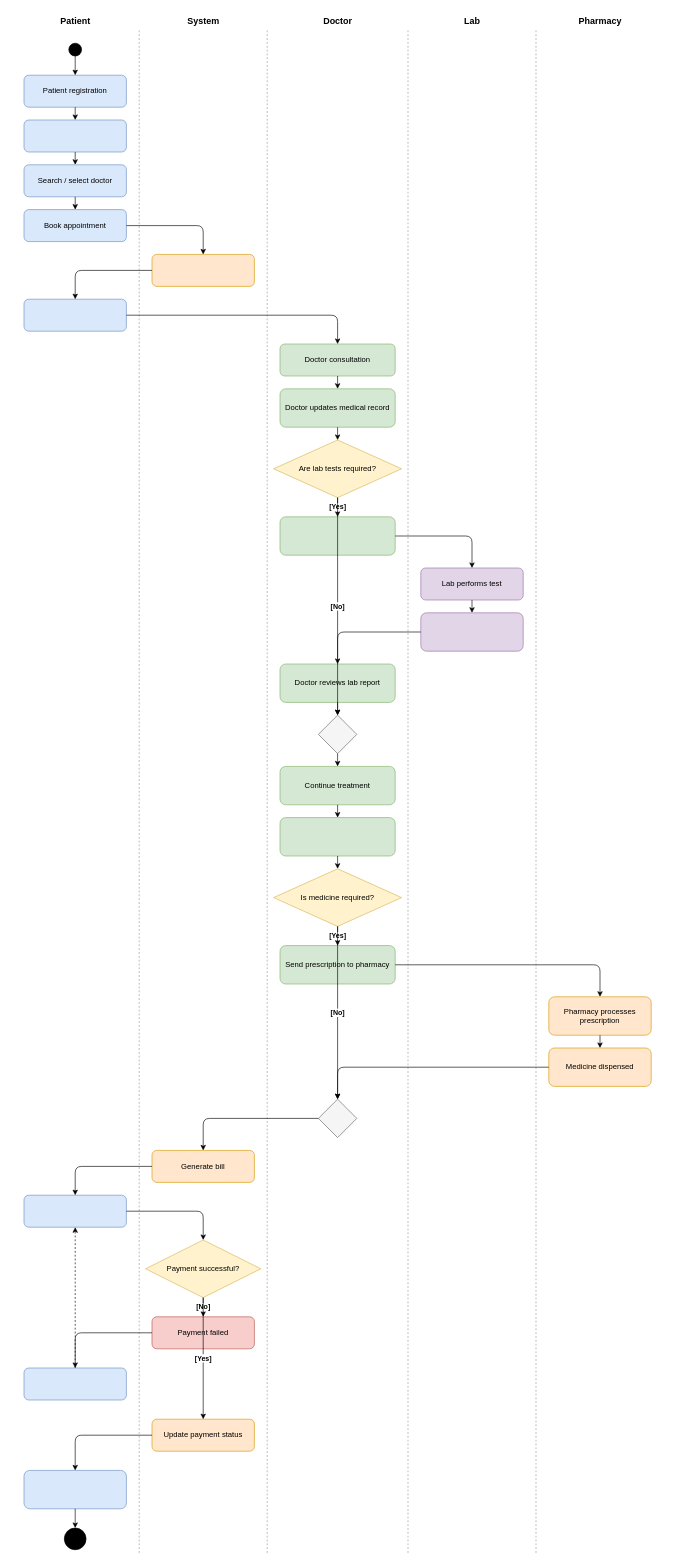
Some shapes in this 675 by 1565 pixel diagram are drawn without their labels. Here are the shapes that lost their labels. From the top down, the centre of each, then its label:
At point (74, 135): "Patient login".
At point (202, 270): "Appointment confirmation".
At point (74, 315): "Patient visits hospital".
At point (337, 535): "Generate lab test request".
At point (471, 631): "Update patient lab report".
At point (337, 836): "Doctor creates prescription".
At point (74, 1211): "Patient makes payment".
At point (74, 1383): "Retry payment".
At point (74, 1489): "Patient receives treatment / reports".
